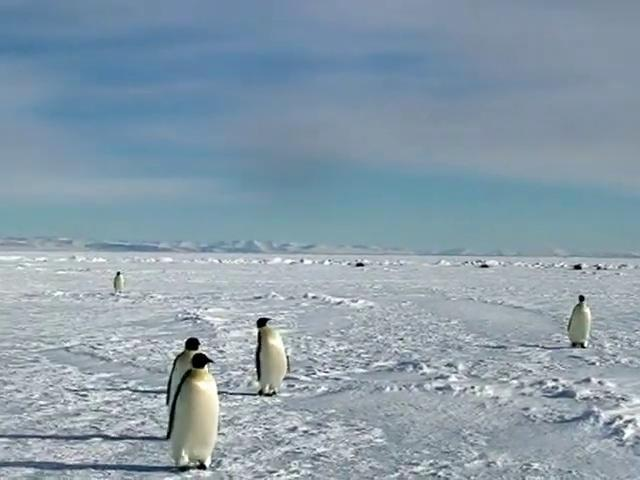animal: (256, 317, 288, 395)
